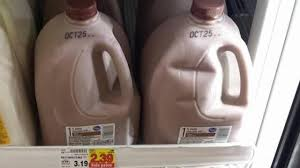milk: (145, 1, 249, 141), (38, 3, 139, 143)
